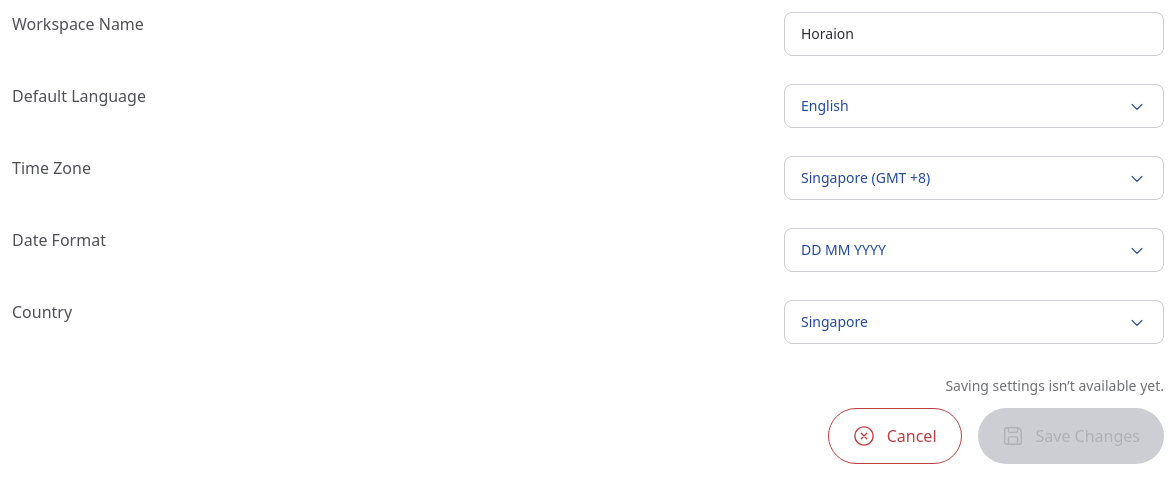
Scenario: offers the three date formats in the design's order
Click the button named "Date Format".
click(843, 250)  # box 784,228 -> 1164,272
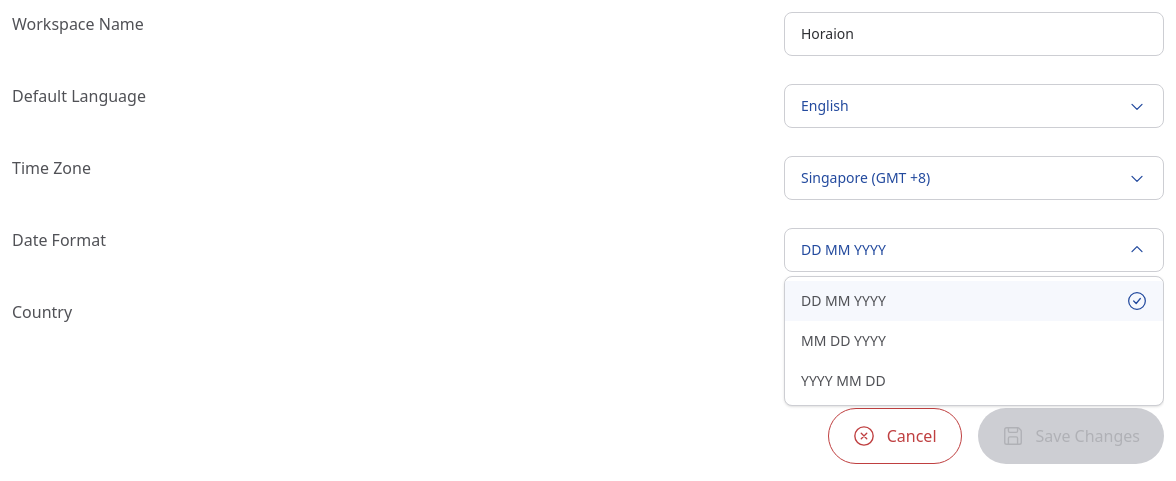
Expected: the options read "DD MM YYYY", "MM DD YYYY", "YYYY MM DD", in this order, 785,281 -> 1163,321; 801,331 -> 886,350; 801,371 -> 886,390
